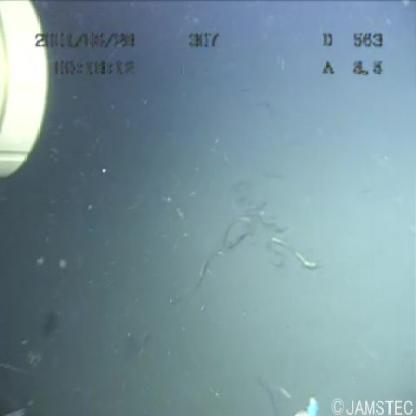Rov: (1, 1, 60, 201), (286, 385, 322, 416)
Rác: (169, 171, 335, 297)
